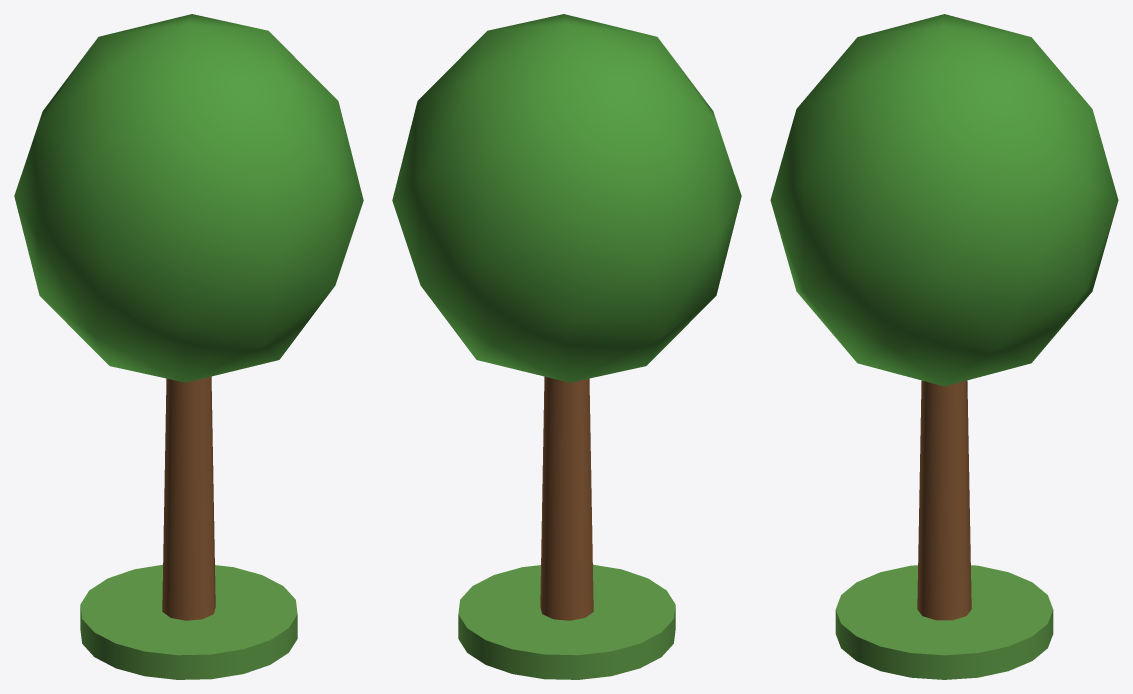
The model's file is leafy-tree.glb.
The picture shows the model from 3 angles, left to right: view 1: azimuth 30°, elevation 25°; view 2: azimuth 150°, elevation 25°; view 3: azimuth 270°, elevation 25°; orthographic projection.
Parts seen in each view (by area): view 1: leaf, grass, darkWood; view 2: leaf, grass, darkWood; view 3: leaf, grass, darkWood.
Boxes of the visible parts, box(x1,y1,x2,y2) form: leaf: box(14, 14, 363, 382); grass: box(80, 564, 297, 679); darkWood: box(162, 376, 215, 620); leaf: box(392, 14, 741, 382); grass: box(458, 564, 675, 679); darkWood: box(540, 376, 593, 620); leaf: box(770, 14, 1118, 386); grass: box(835, 565, 1053, 679); darkWood: box(917, 380, 971, 620).
Size of the model in its own units: 64 by 123 by 64.
